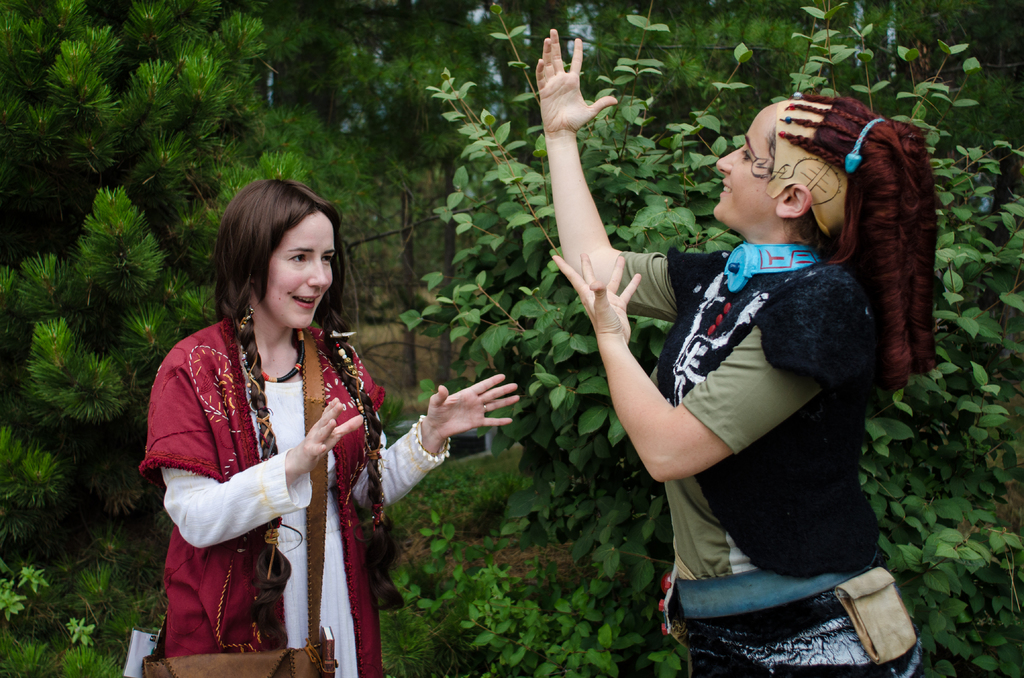Human_hand: (534, 28, 621, 140), (550, 251, 644, 342), (411, 376, 509, 462), (291, 396, 366, 473)
